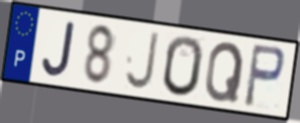8: (83, 22, 117, 87)
J: (123, 29, 161, 92), (41, 20, 78, 80)
O: (161, 34, 205, 99)
P: (242, 42, 287, 111)
Q: (203, 40, 246, 104)
